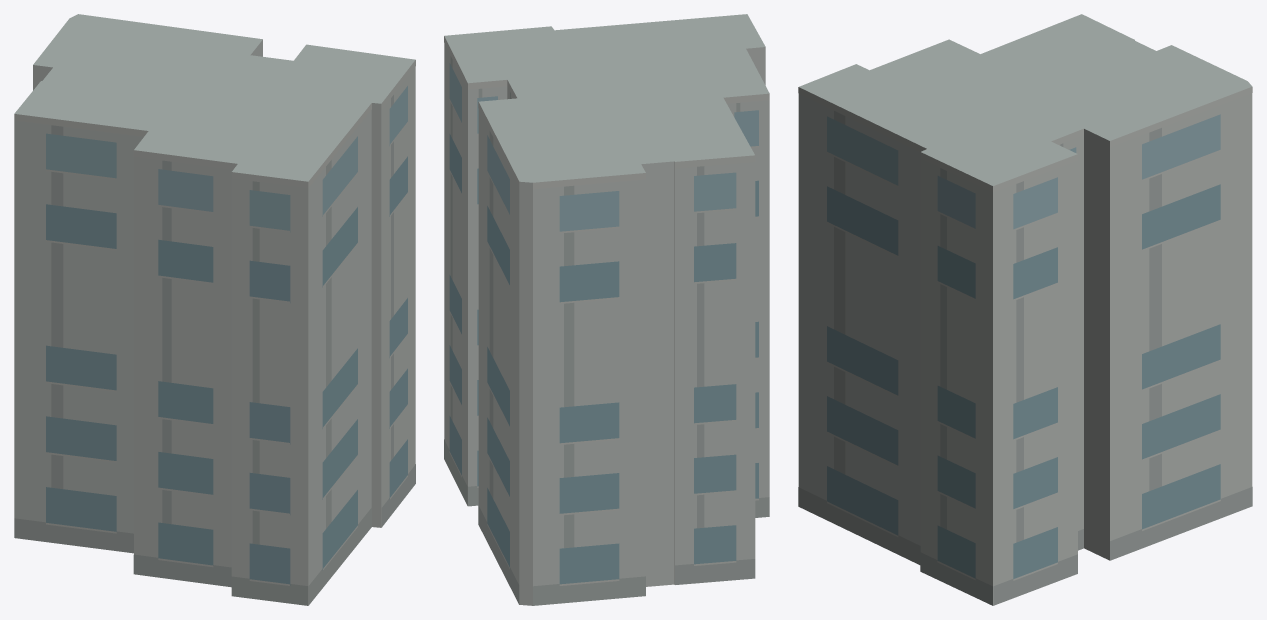
Rendered from survey-upis-32652668.glb.
3 renders of one model, left to right at view 1: azimuth 30°, elevation 25°; view 2: azimuth 150°, elevation 25°; view 3: azimuth 270°, elevation 25°, orthographic.
Parts seen in each view (by area): view 1: survey-upis-32652668.tmp; view 2: survey-upis-32652668.tmp; view 3: survey-upis-32652668.tmp.
Part boxes in pixels (left/top/right/bottom): survey-upis-32652668.tmp: left=14, top=14, right=415, bottom=605; survey-upis-32652668.tmp: left=444, top=14, right=769, bottom=605; survey-upis-32652668.tmp: left=798, top=14, right=1252, bottom=605.
Bounding box in the file's own units: 13.73 × 15.6 × 15.3.
